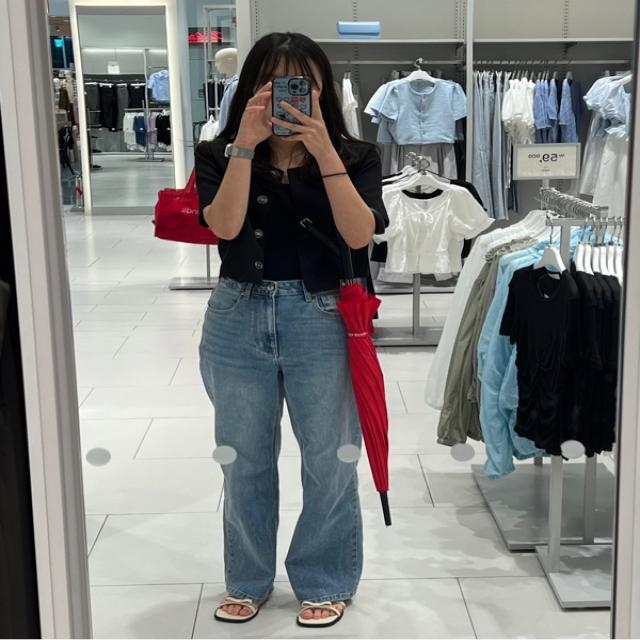blazer: (192, 128, 387, 290)
denimpants: (198, 271, 362, 607)
